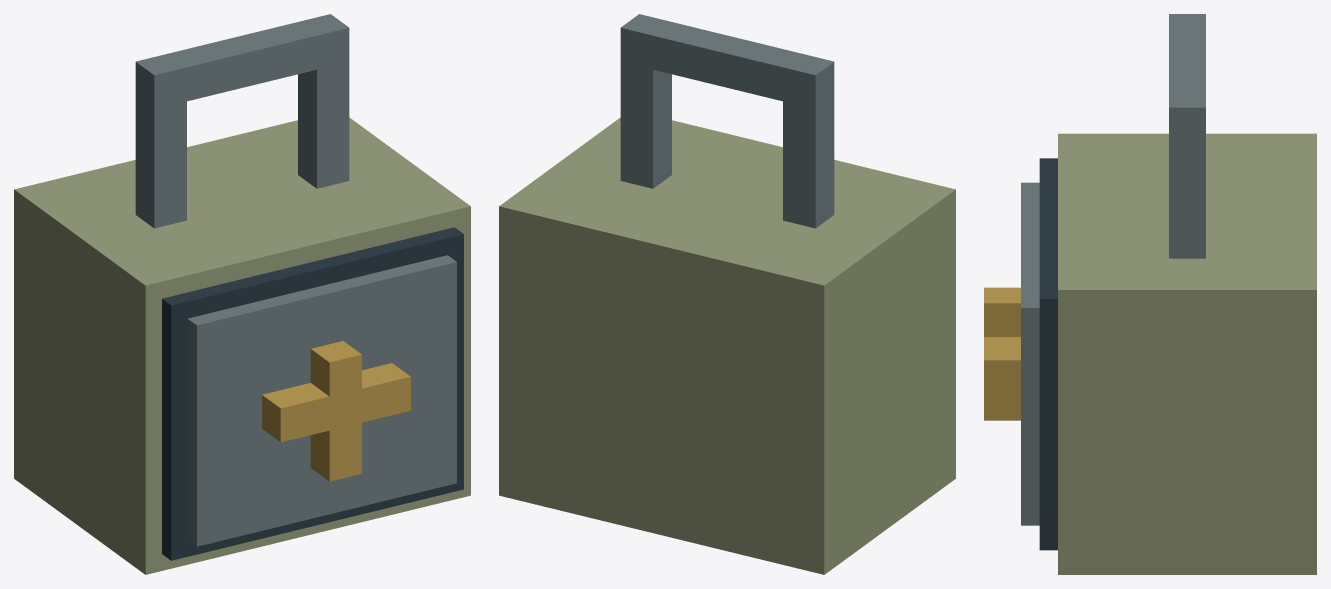
File: property-12.glb
The picture shows the model from 3 angles, left to right: view 1: azimuth 30°, elevation 25°; view 2: azimuth 150°, elevation 25°; view 3: azimuth 270°, elevation 25°; orthographic projection.
Parts seen in each view (by area): view 1: Smart lock; view 2: Smart lock; view 3: Smart lock.
Part boxes in pixels (box(x1,y1,x2,y2)): Smart lock: box(14, 14, 470, 574); Smart lock: box(499, 14, 955, 574); Smart lock: box(984, 14, 1316, 574).
Size of the model in its own units: 1.6 by 2.08 by 1.44.
